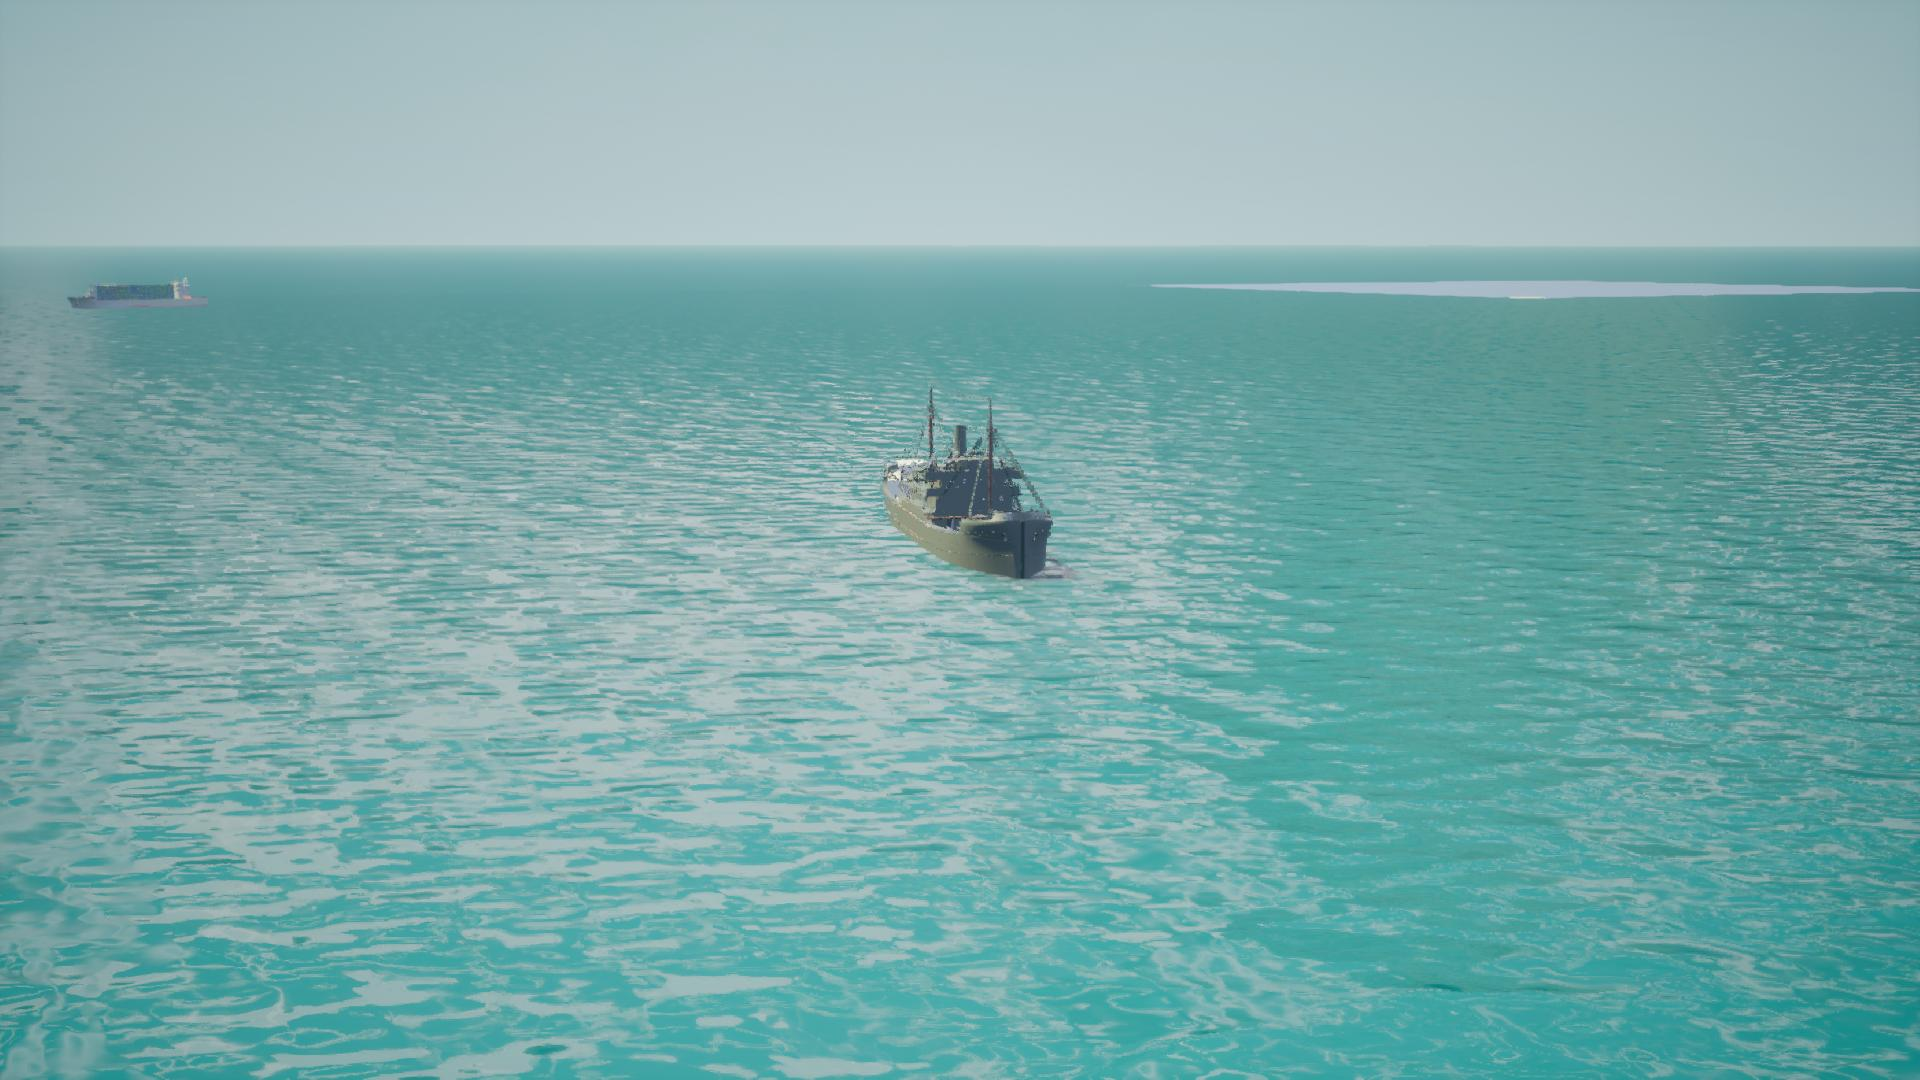Fishing Boat: (881, 385, 1054, 583), (67, 280, 216, 310)
